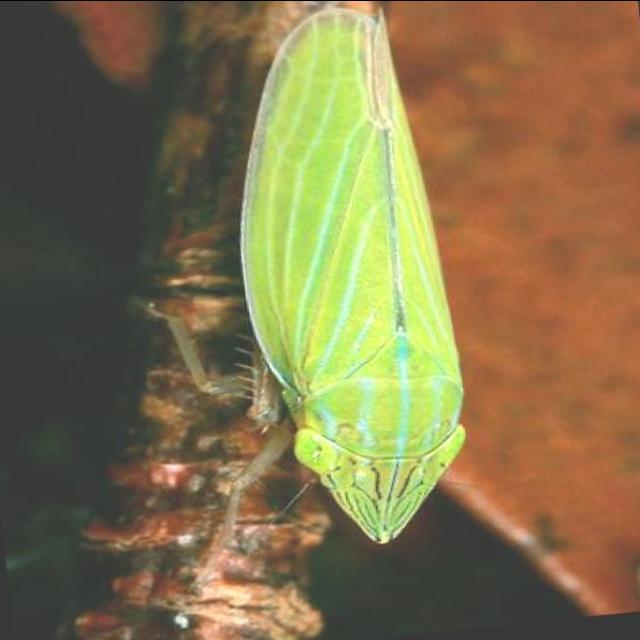green leaf hopper: (242, 8, 465, 541)
